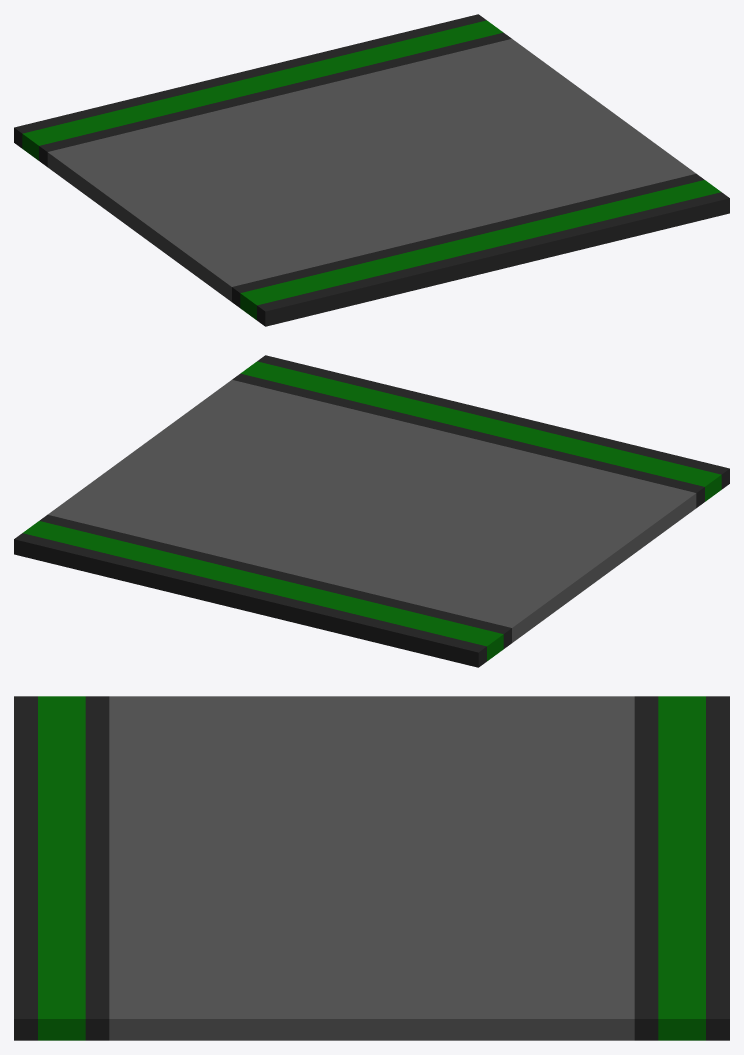
File: EsteiraNova.obj
3 renders of one model, top to bottom at view 1: azimuth 30°, elevation 25°; view 2: azimuth 150°, elevation 25°; view 3: azimuth 270°, elevation 25°, orthographic. The views are drawn at different scales.
Size of the model in its own units: 3.2 by 0.1 by 3.
Materials: 1 (1 with a texture image).
